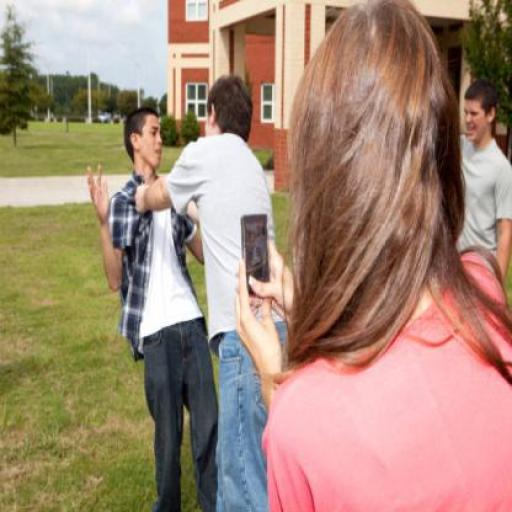Fighting: (84, 72, 273, 512)
